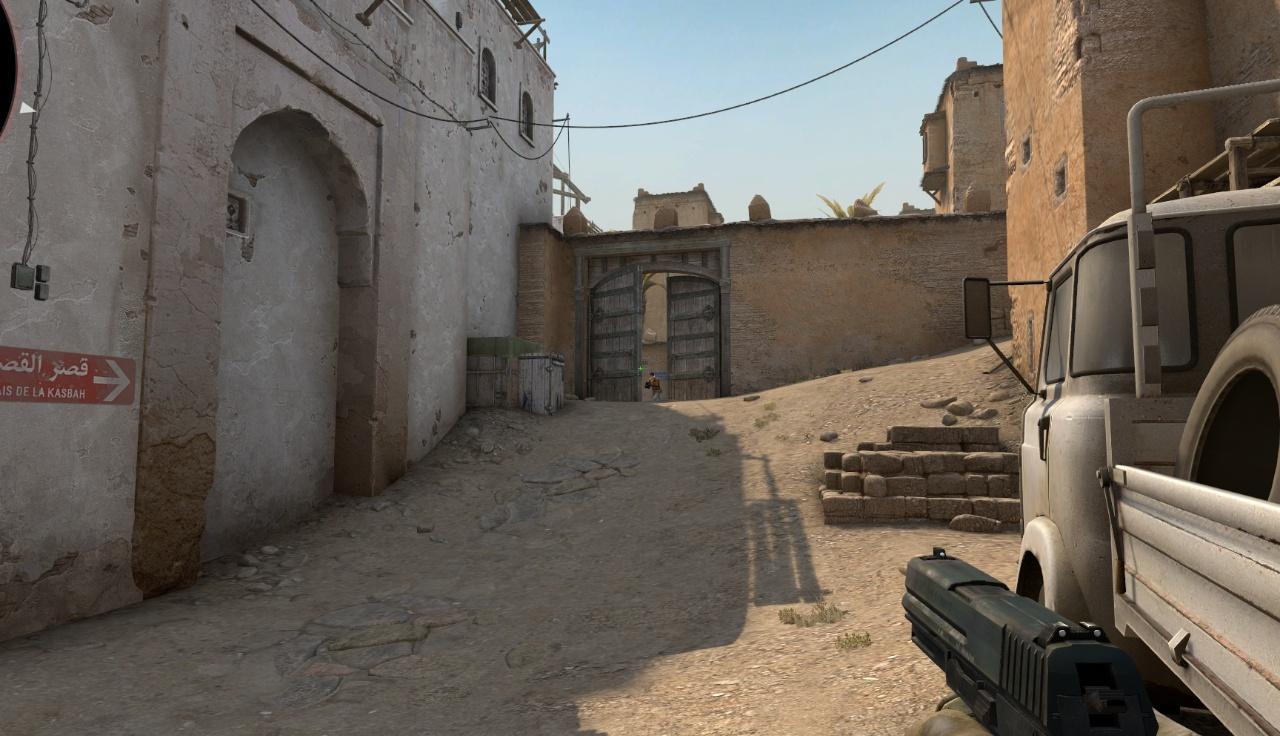pistol: (903, 547, 1209, 736)
tt: (647, 372, 663, 402)
tthead: (650, 372, 654, 380)
